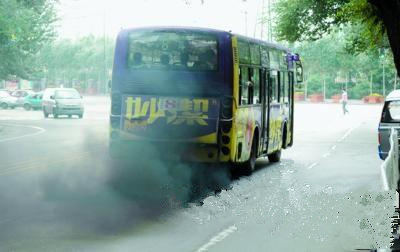smoke: (38, 131, 221, 219)
